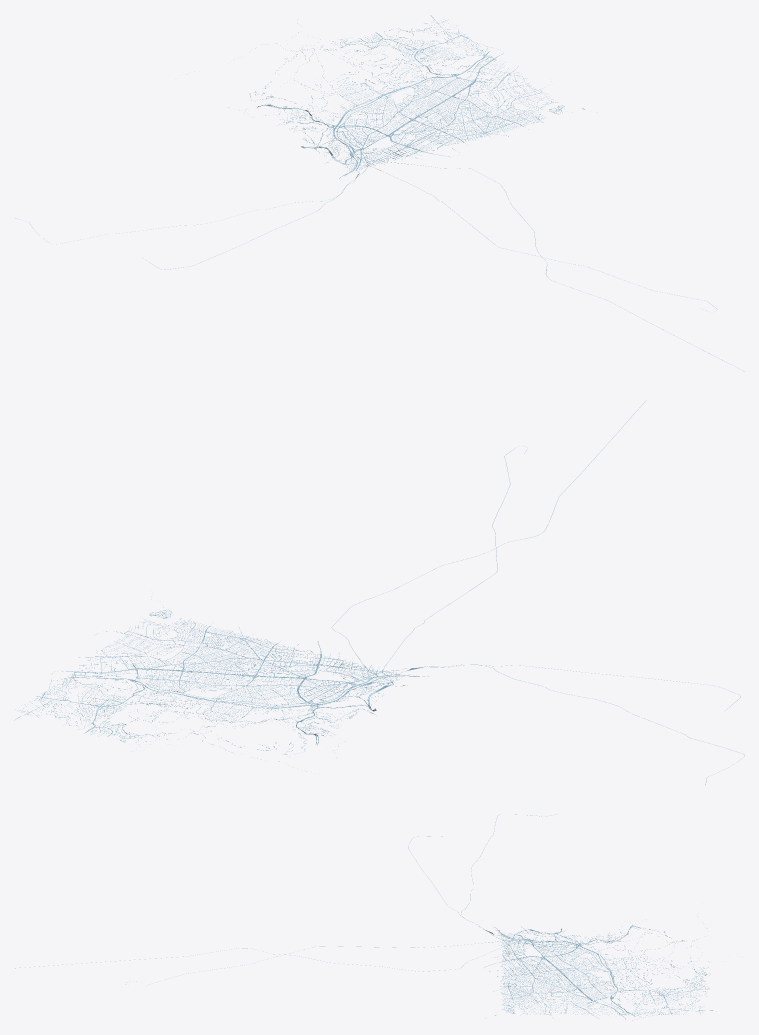
Rendered from roads.glb.
3 renders of one model, top to bottom at view 1: azimuth 30°, elevation 25°; view 2: azimuth 150°, elevation 25°; view 3: azimuth 270°, elevation 25°, orthographic. The views are drawn at different scales.
Parts seen in each view (by area): view 1: roads; view 2: roads; view 3: roads.
Part boxes in pixels (x1=…): roads: x1=15, y1=15, x2=744, y2=371; roads: x1=14, y1=400, x2=744, y2=785; roads: x1=15, y1=814, x2=716, y2=1020.
Size of the model in its own units: 22300 by 1122 by 32478.
